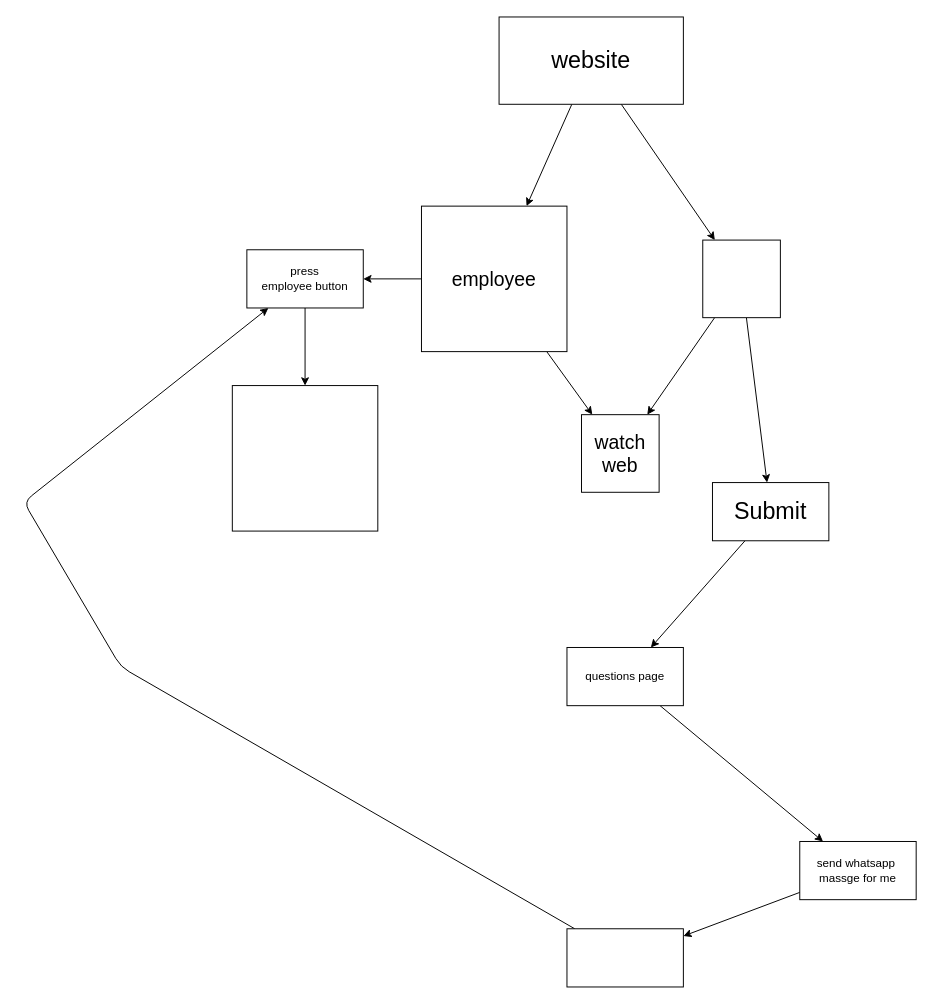
Some shapes in this 933 by 1004 pixel diagram are drawn without their labels. The shapes that lost their labels are listed below. From the top down, each one's centre as x and y in pixels, then its label:
(741,278): Guest
(304,458): employee site /page
(624,957): start interview
